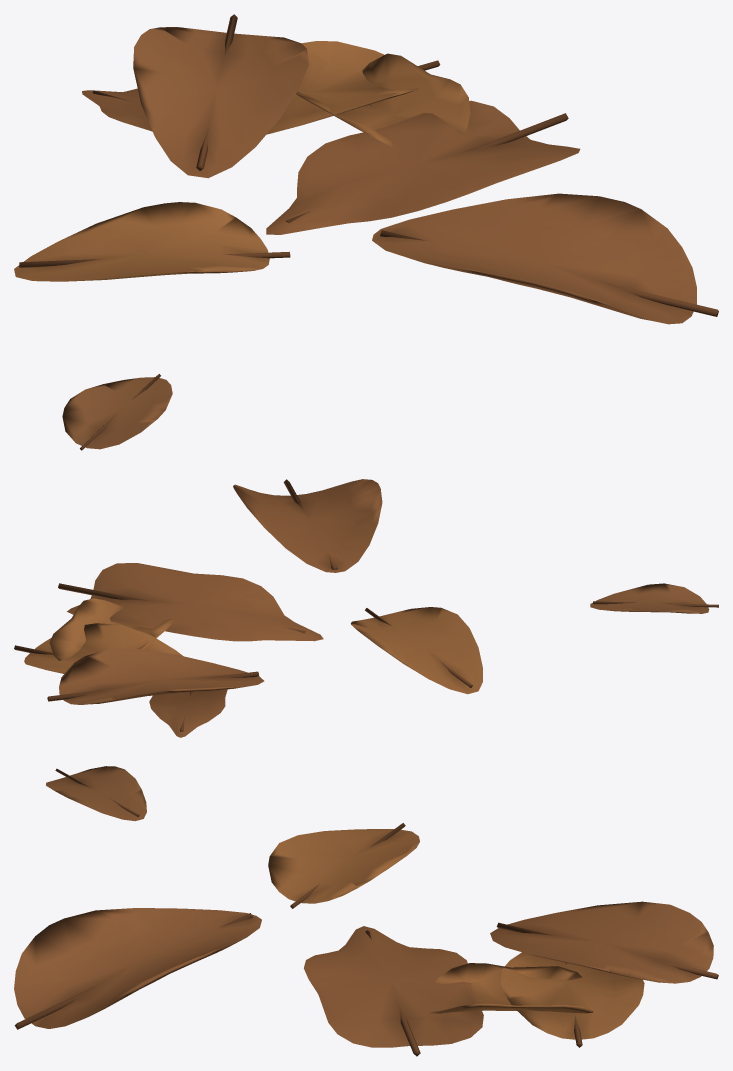
The model's file is glade_gc_leaf_litter_c.glb.
3 renders of one model, top to bottom at view 1: azimuth 30°, elevation 25°; view 2: azimuth 150°, elevation 25°; view 3: azimuth 270°, elevation 25°, orthographic. The views are drawn at different scales.
Parts seen in each view (by area): view 1: glade_gc_leaf_litter_c; view 2: glade_gc_leaf_litter_c; view 3: glade_gc_leaf_litter_c.
Boxes of the visible parts, bbox=[...] form: glade_gc_leaf_litter_c: bbox=[14, 14, 718, 450]; glade_gc_leaf_litter_c: bbox=[14, 479, 718, 737]; glade_gc_leaf_litter_c: bbox=[14, 766, 718, 1056].
Size of the model in its own units: 4.37 by 0.3805 by 4.44.
